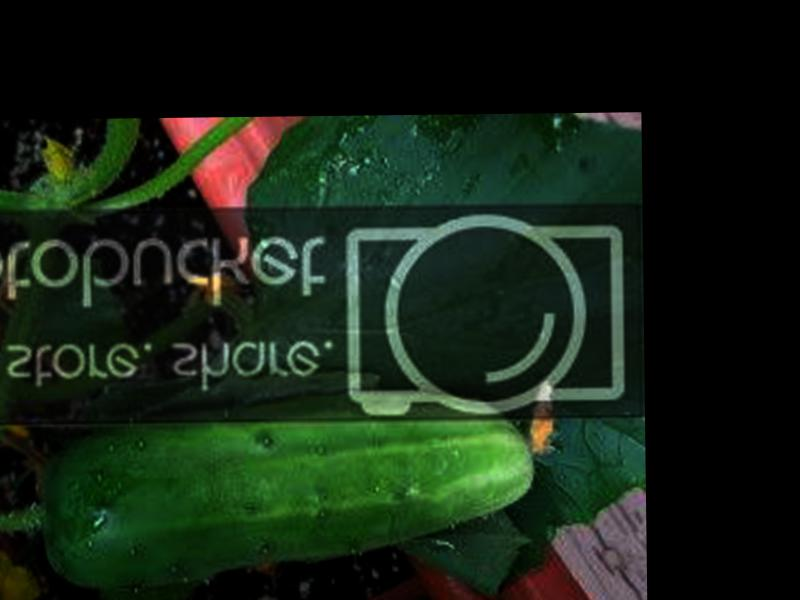Cucumber: (45, 387, 540, 591)
